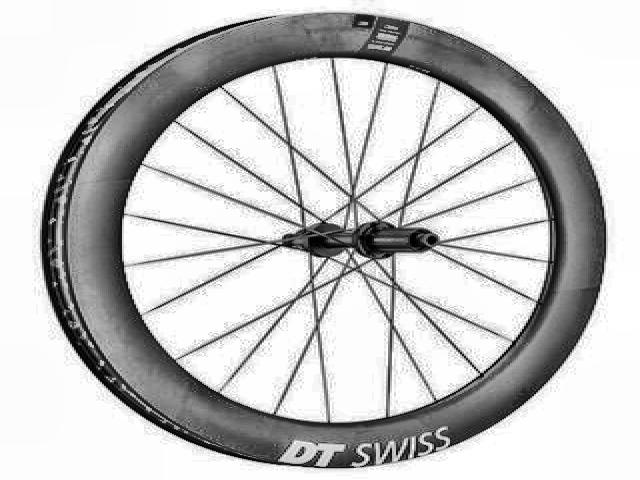wheel: (36, 7, 615, 470)
